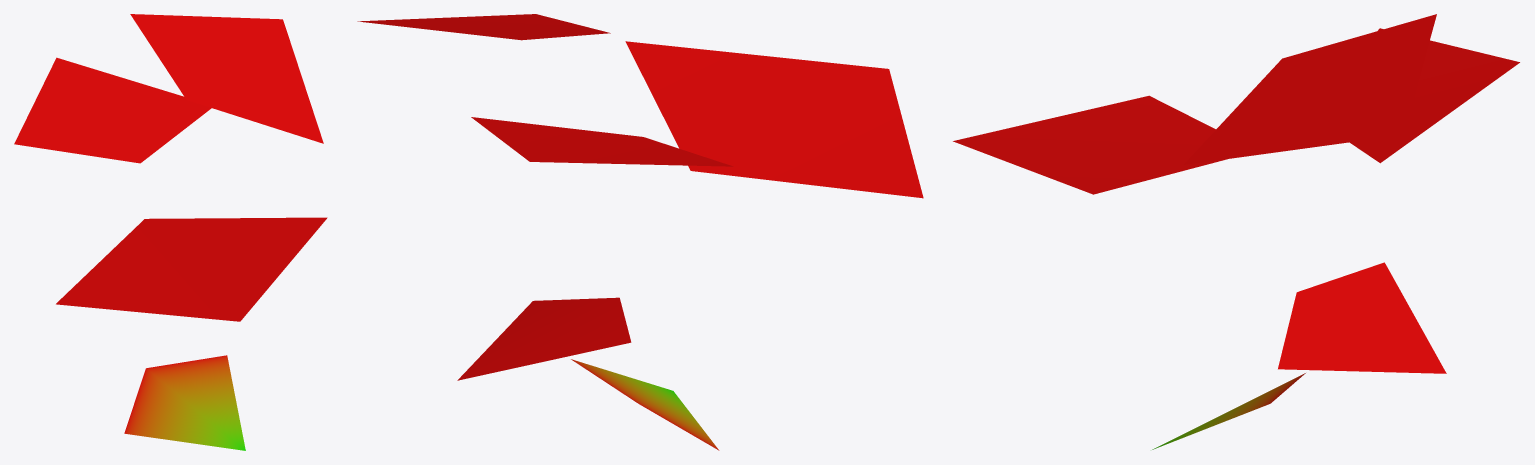
Rendered from Var9_LOD5.fbx.
The picture shows the model from 3 angles, left to right: view 1: azimuth 30°, elevation 25°; view 2: azimuth 150°, elevation 25°; view 3: azimuth 270°, elevation 25°; orthographic projection. The views are drawn at different scales.
Parts seen in each view (by area): view 1: _r6sl_Var9_LOD5; view 2: _r6sl_Var9_LOD5; view 3: _r6sl_Var9_LOD5.
Boxes of the visible parts, box(x1,y1,x2,y2) form: _r6sl_Var9_LOD5: box(14, 14, 327, 450); _r6sl_Var9_LOD5: box(357, 14, 923, 450); _r6sl_Var9_LOD5: box(953, 14, 1519, 449).
Size of the model in its own units: 14.84 by 15.12 by 17.82.
